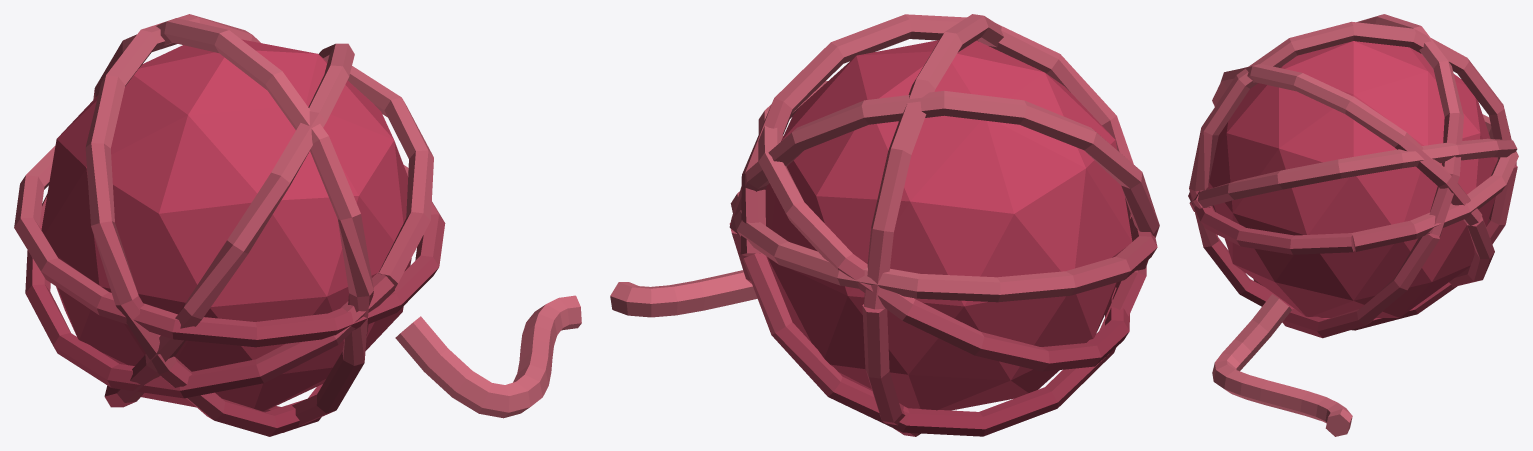
The model's file is habitat_prop_whiskers.fbx.
3 views of the same model, side by side, from view 1: azimuth 30°, elevation 25°; view 2: azimuth 150°, elevation 25°; view 3: azimuth 270°, elevation 25° (orthographic). The views are drawn at different scales.
Visible parts, largest first — view 1: habitat_prop_whiskers; view 2: habitat_prop_whiskers; view 3: habitat_prop_whiskers.
Part boxes in pixels (x1=…): habitat_prop_whiskers: x1=14, y1=14, x2=581, y2=436; habitat_prop_whiskers: x1=610, y1=14, x2=1159, y2=436; habitat_prop_whiskers: x1=1188, y1=14, x2=1518, y2=436.
Bounding box in the file's own units: 1.44 × 1.02 × 1.02.
